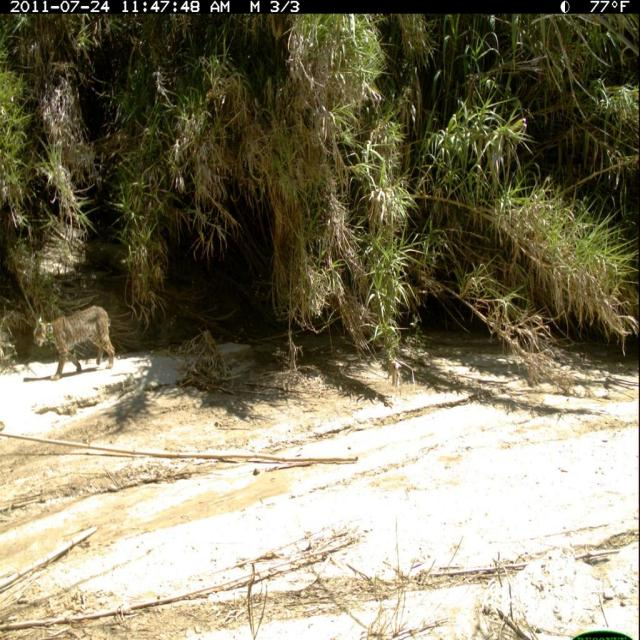bobcat: (26, 305, 128, 385)
